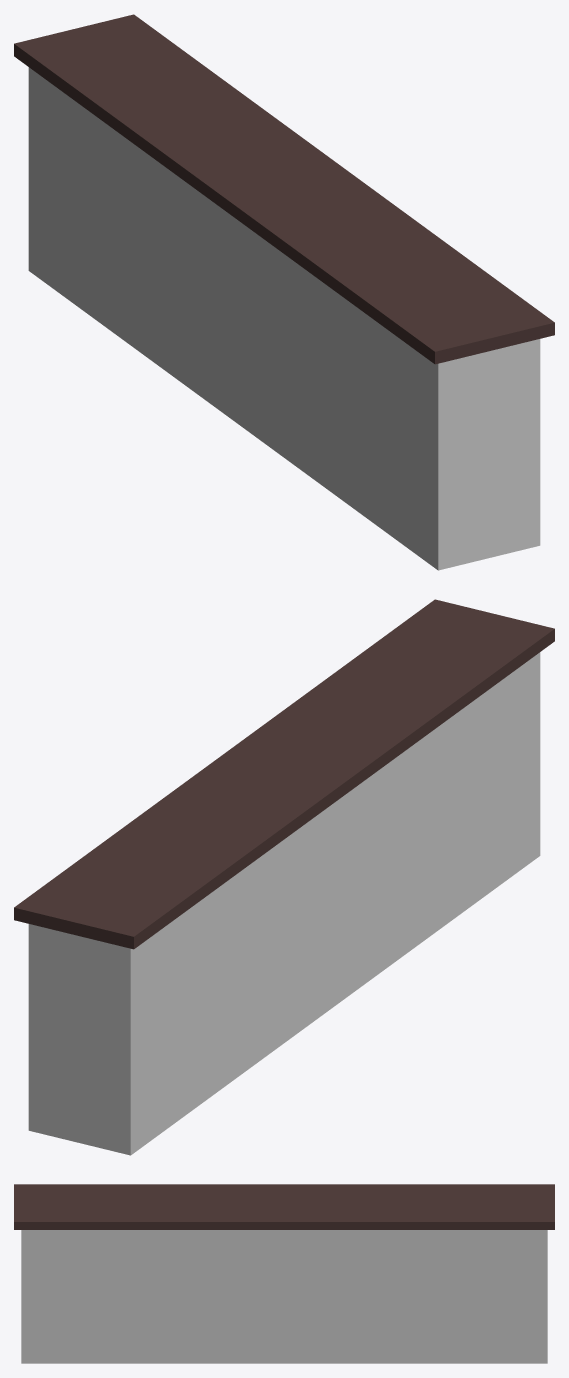
The model's file is Table.fbx.
3 renders of one model, top to bottom at view 1: azimuth 30°, elevation 25°; view 2: azimuth 150°, elevation 25°; view 3: azimuth 270°, elevation 25°, orthographic. The views are drawn at different scales.
Parts seen in each view (by area): view 1: Table; view 2: Table; view 3: Table.
Part boxes in pixels (x1,y1,x2,y2): Table: (14, 14, 554, 570); Table: (14, 599, 554, 1155); Table: (14, 1184, 554, 1363).
Bounding box in the file's own units: 0.3746 × 0.6717 × 2.28.
